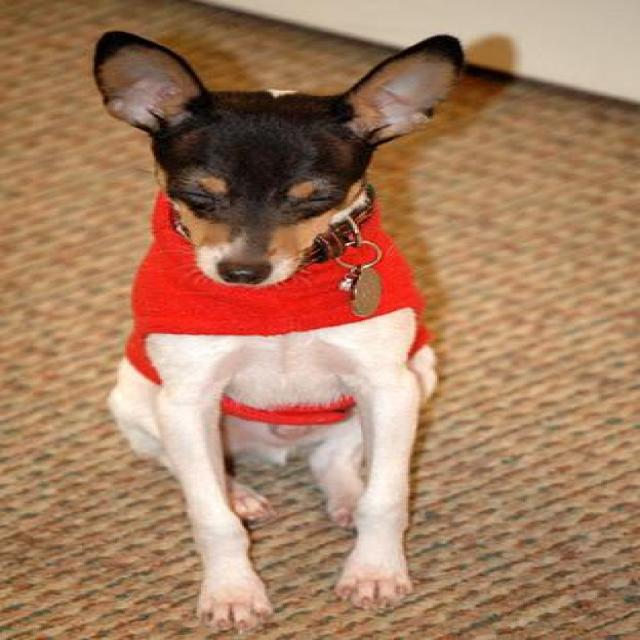toy_terrier: (88, 27, 468, 635)
